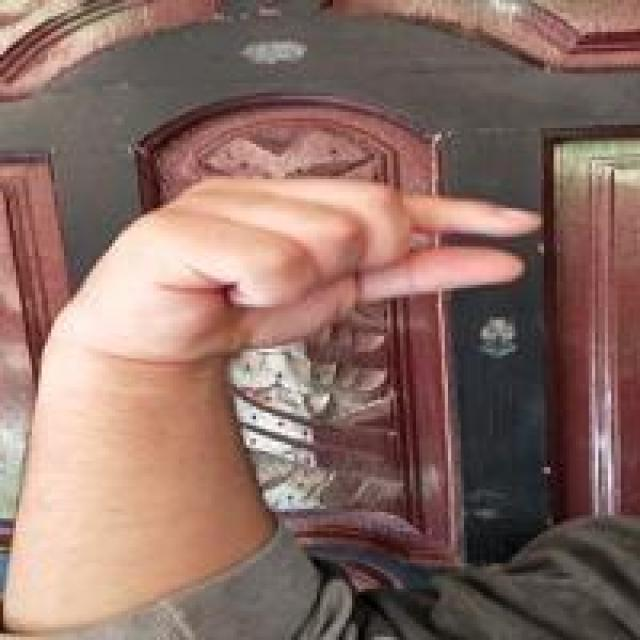G: (58, 173, 550, 355)
